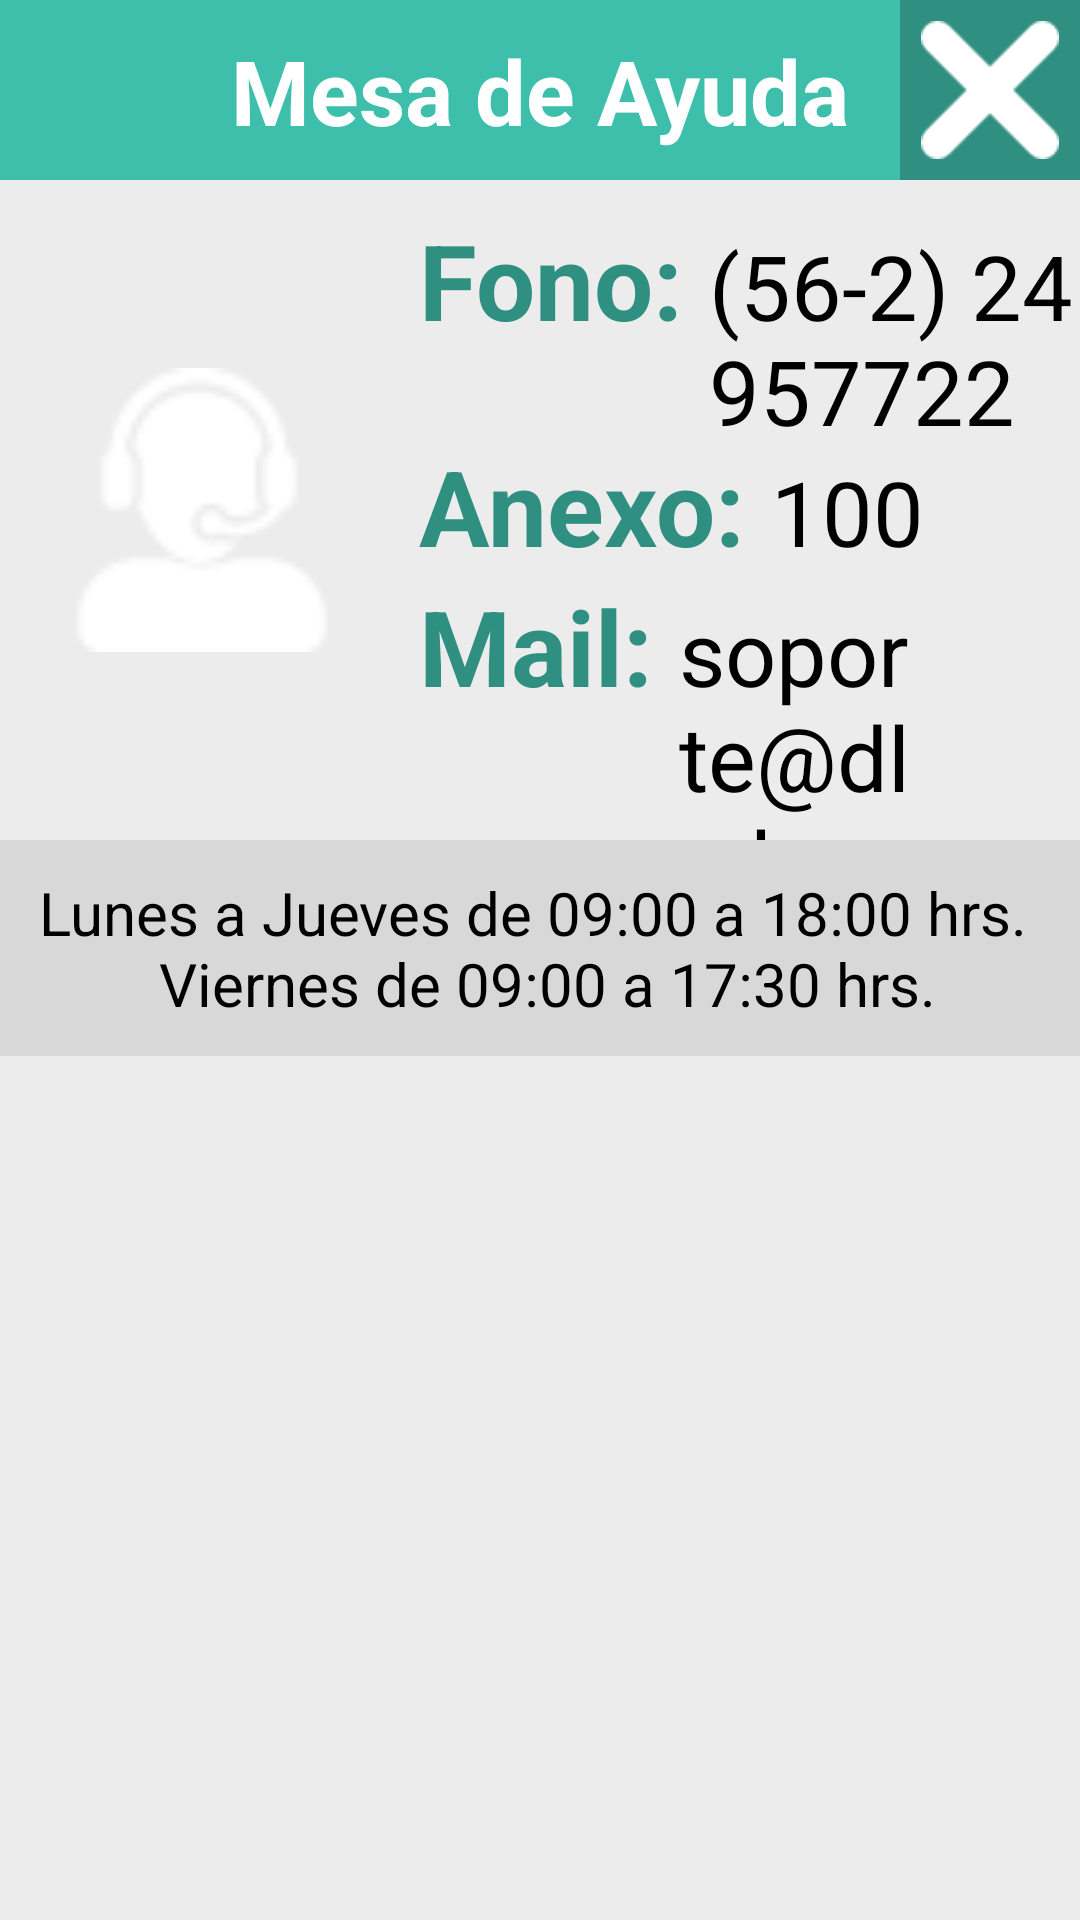

Where to tap for icons on this 1080px x 1920px app screen, as point (x, y):
close: point (990, 90)
